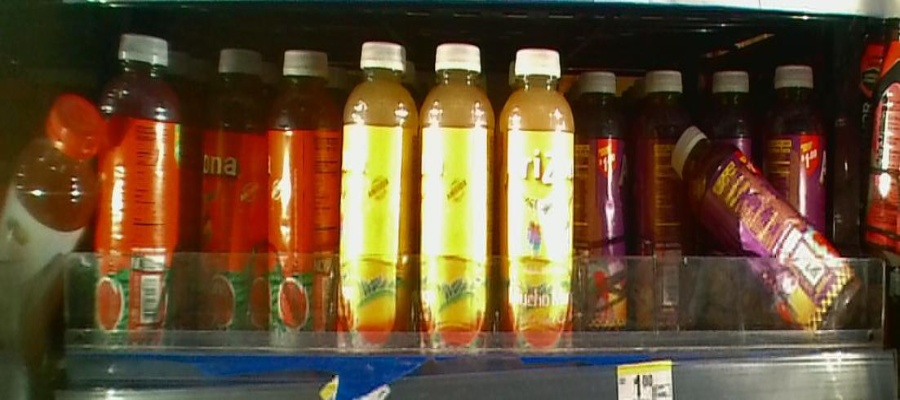bottle: (99, 27, 182, 357), (263, 20, 337, 385), (189, 19, 261, 380), (496, 25, 575, 350), (341, 25, 415, 363), (420, 27, 497, 351), (778, 61, 839, 366), (714, 58, 774, 362), (631, 49, 687, 356), (579, 49, 627, 350)
